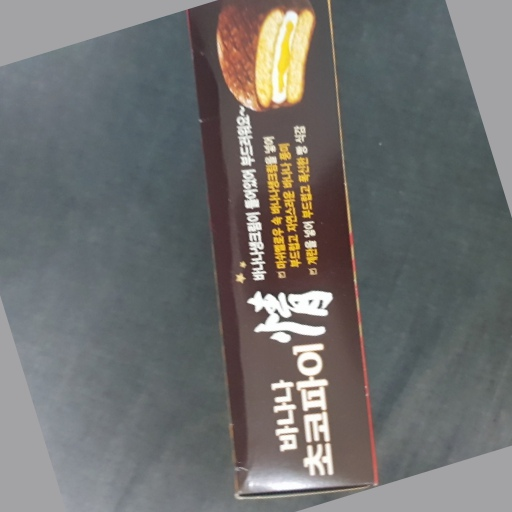Paper_0: (188, 8, 397, 503)
